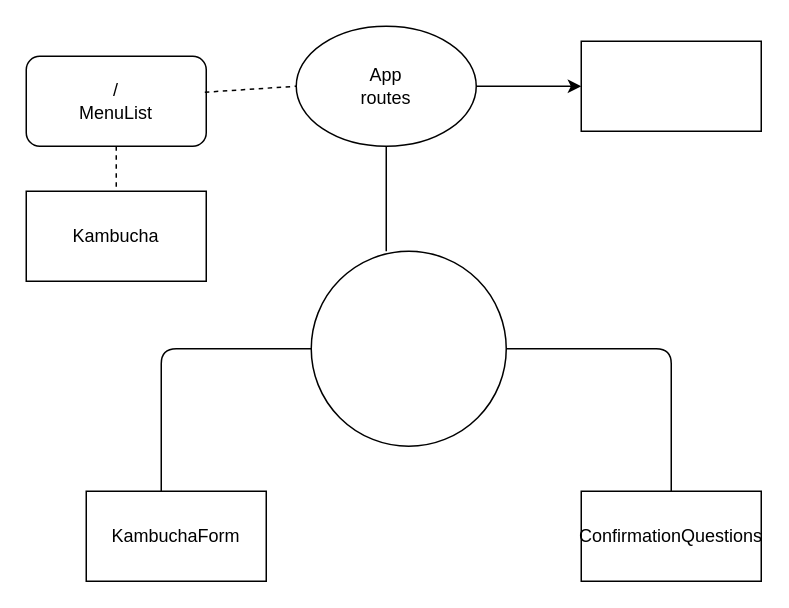
Image size: 789x608. Some labels were removed from this diagram. Here are the shapes that lost their labels. From the top down, the centre of each, then its label:
At point (670, 85): "Header Button FrontPage".
At point (408, 348): "/newKambucha NewKambuchaControl".
